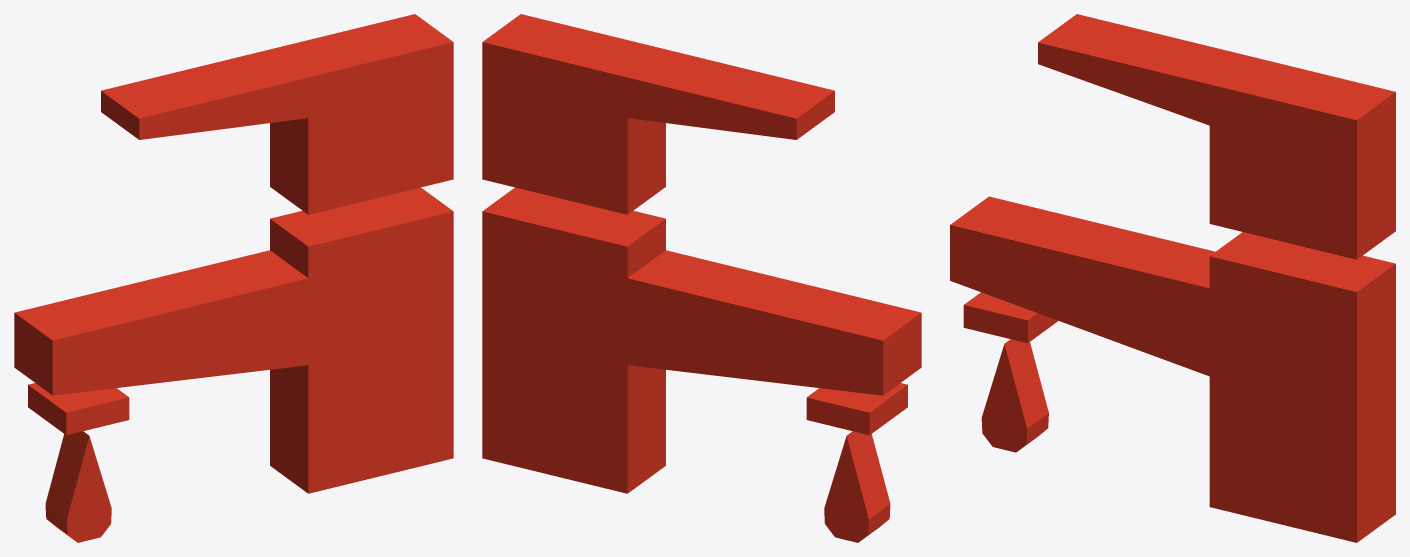
File: Icon_Faucet_01.fbx
3 renders of one model, left to right at view 1: azimuth 30°, elevation 25°; view 2: azimuth 150°, elevation 25°; view 3: azimuth 330°, elevation 25°, orthographic.
Parts seen in each view (by area): view 1: Icon_Faucet_01; view 2: Icon_Faucet_01; view 3: Icon_Faucet_01.
Part boxes in pixels (x1,y1,x2,y2): Icon_Faucet_01: (14,14,453,542); Icon_Faucet_01: (482,14,921,542); Icon_Faucet_01: (950,14,1395,542).
Size of the model in its own units: 72.71 by 72.39 by 12.06.
